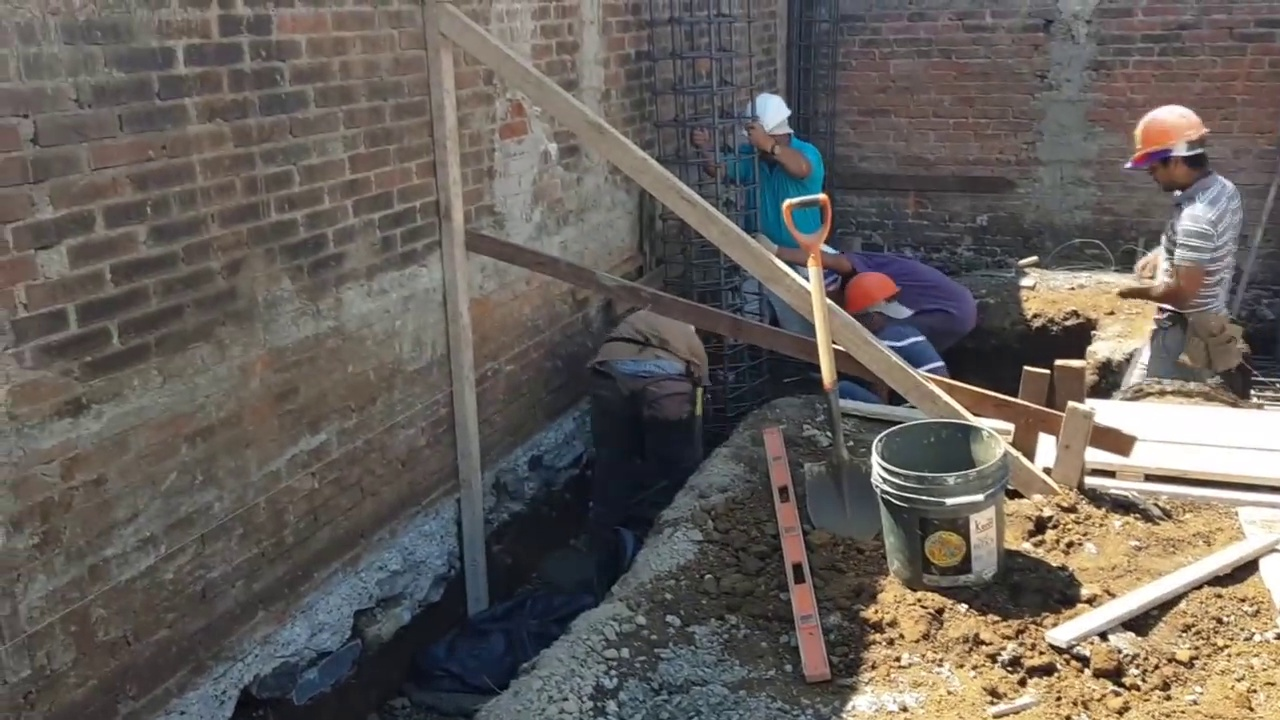helmet: (1130, 105, 1216, 170), (841, 266, 902, 310), (747, 94, 794, 131)
helmet-on: (1133, 99, 1222, 200), (840, 266, 912, 335), (748, 92, 794, 159)
person: (692, 86, 838, 352), (1124, 100, 1242, 423), (582, 310, 711, 472), (809, 242, 980, 350), (830, 266, 951, 382)
